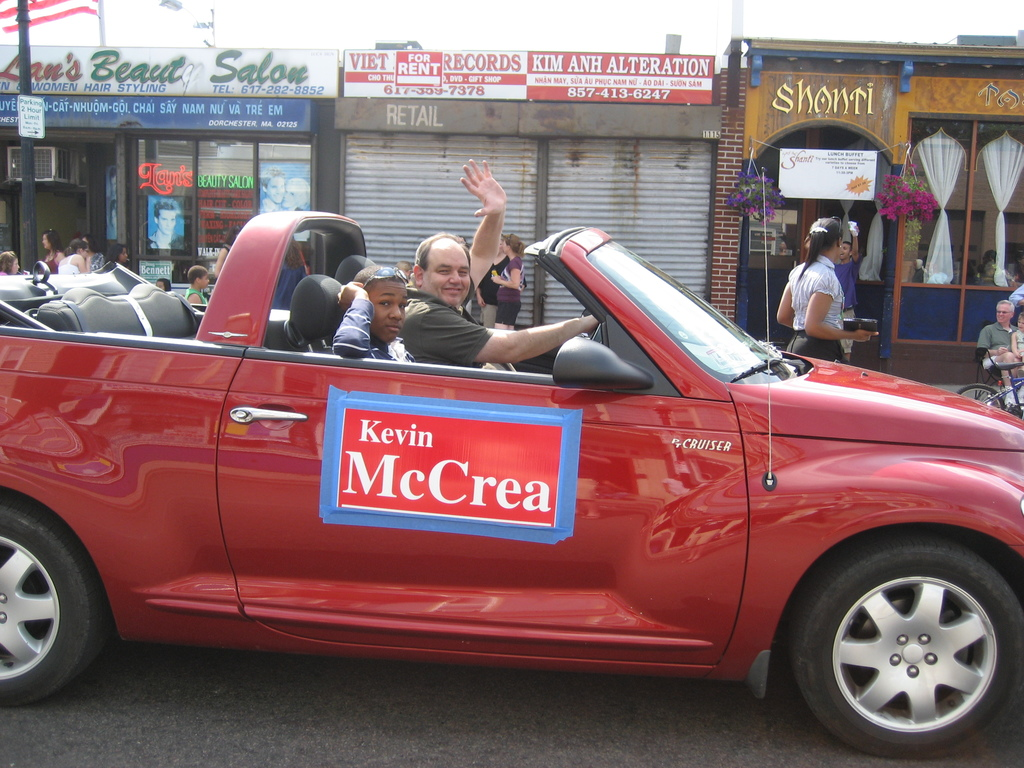Person: (0, 157, 1023, 418)
